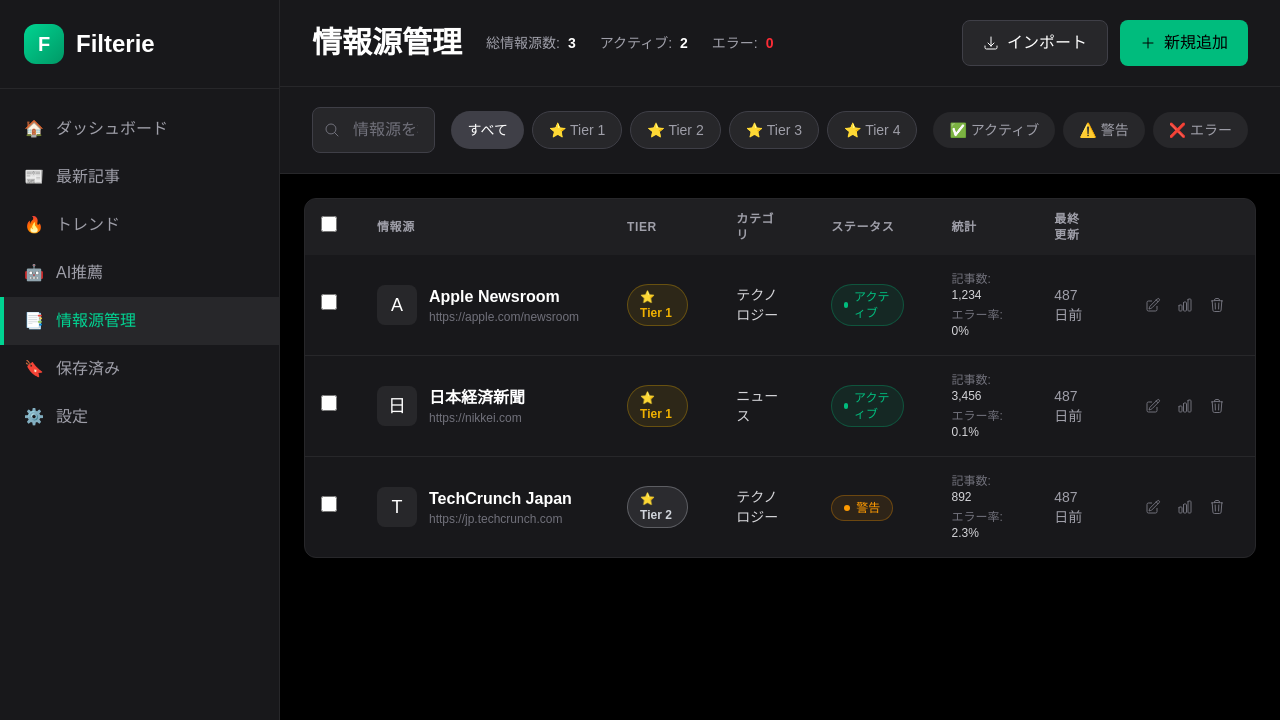
Test: SourcesPage › should filter sources by tier
Expected: the text "Apple Newsroom" is shown, [429,285,579,309]
Click Tier 2 filter button
Click the button "⭐ Tier 2" at (676, 130), box [630,111,721,149]
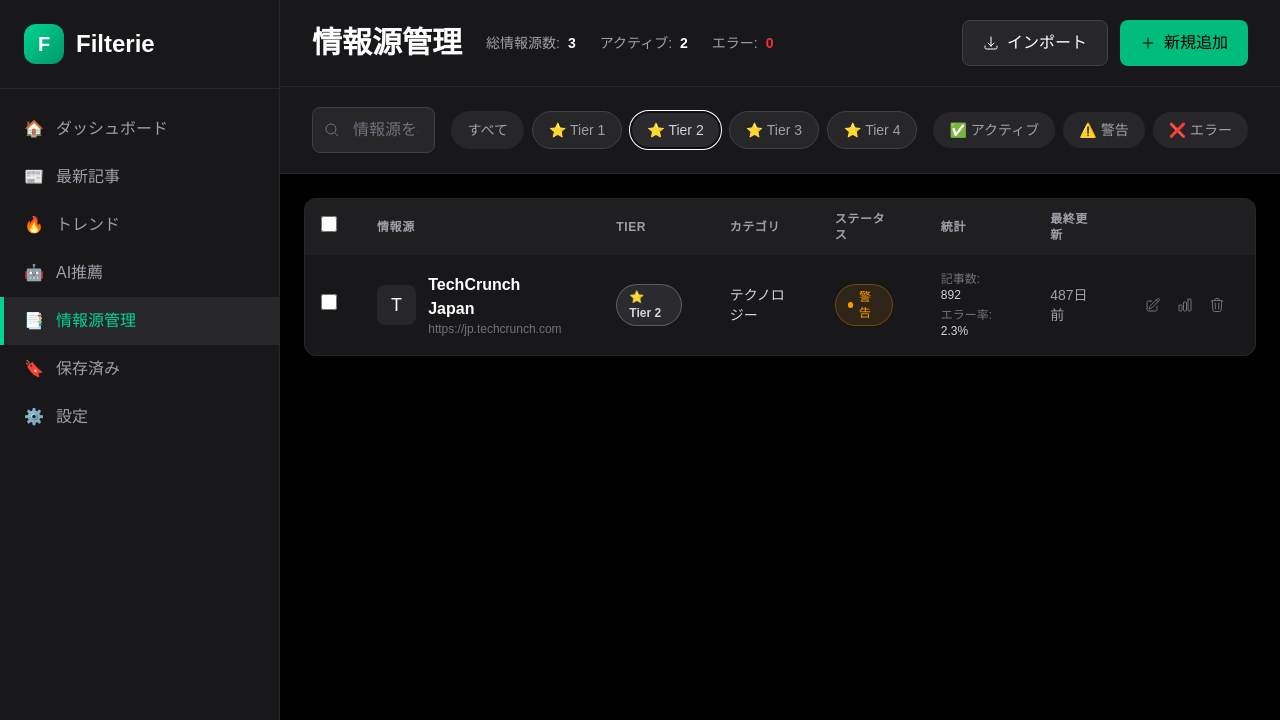
Expected: the text "TechCrunch Japan" is shown, [428,276,520,317]
Now the text "Apple Newsroom" is gone
Now the text "日本経済新聞" is gone
